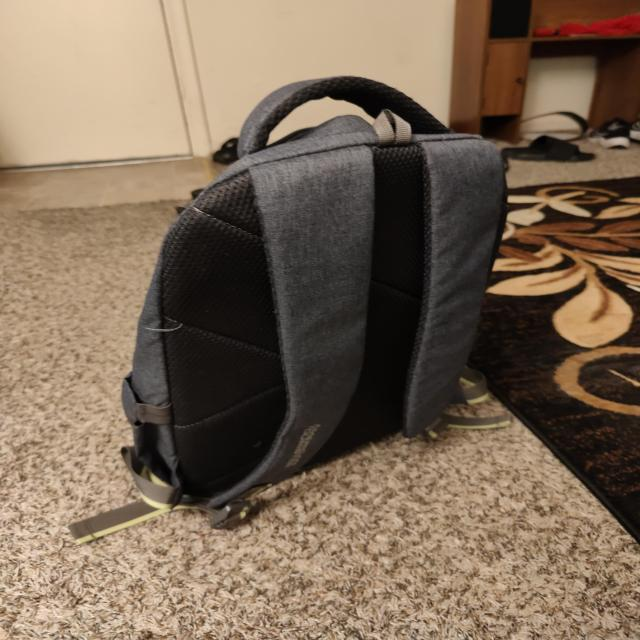bag: (147, 74, 508, 490)
